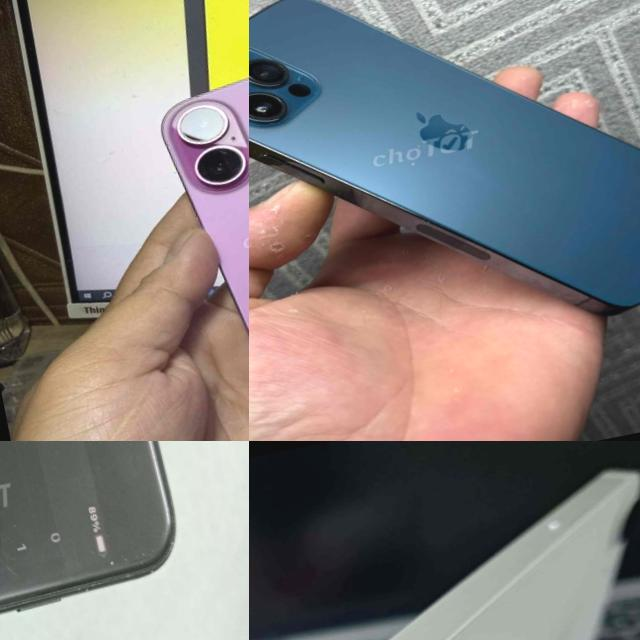scratch: (104, 544, 166, 576)
